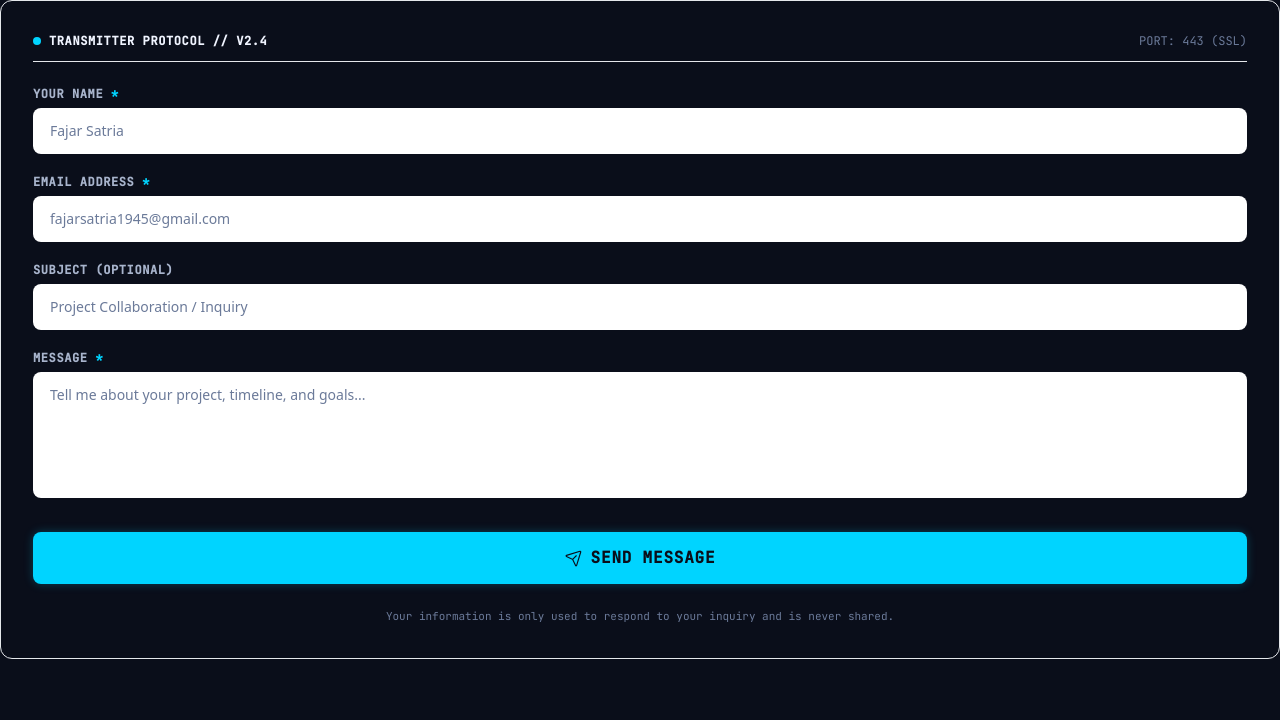
it: ContactForm Component › validates empty inputs and displays accessible error messages (TC-010)
Step 1. Click the button "Send Message" → (640, 558), box x1=33 y1=532 x2=1247 y2=584
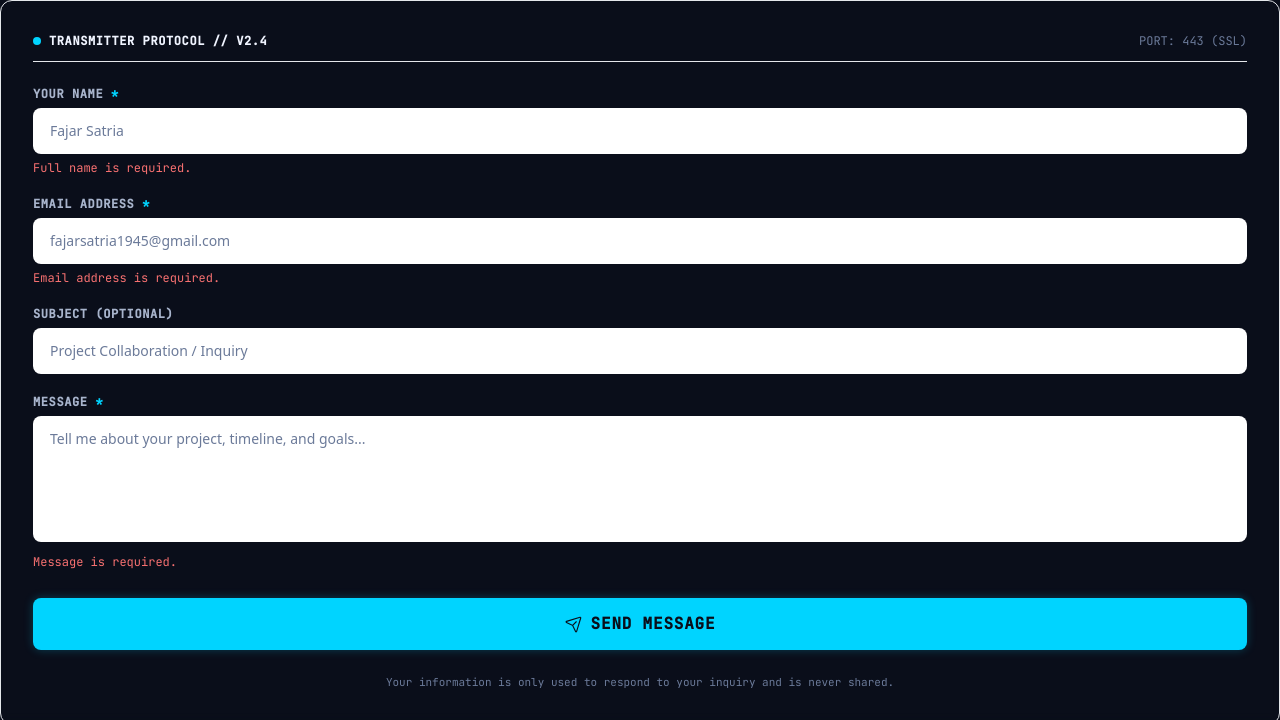
Result: the text "Full name is required." is shown at x1=33 y1=160 x2=191 y2=176
Result: the text "Email address is required." is shown at x1=33 y1=270 x2=220 y2=286
Result: the text "Message is required." is shown at x1=33 y1=554 x2=177 y2=570
